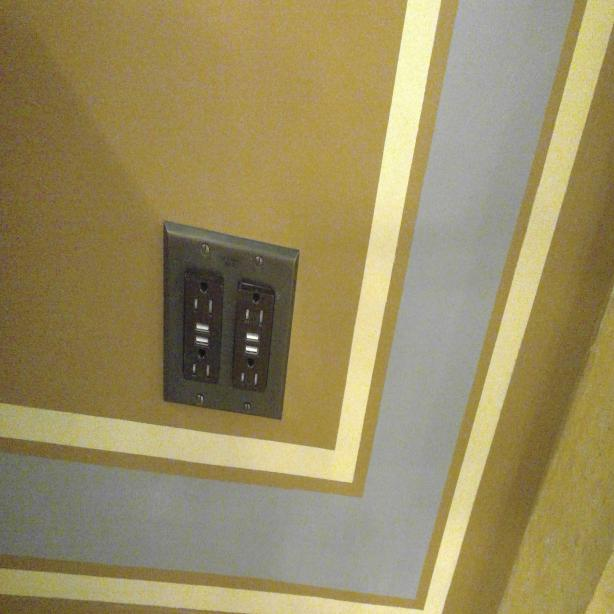typeb: (185, 276, 222, 320), (183, 344, 219, 386), (240, 286, 271, 330), (234, 354, 268, 392)
